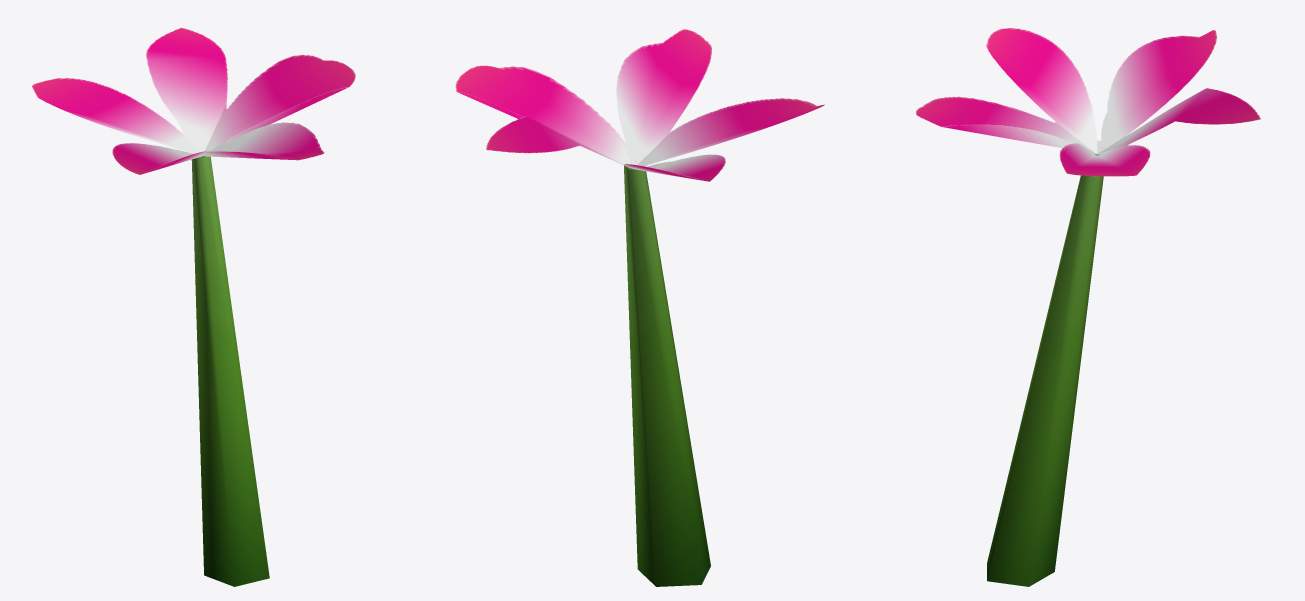
Rendered from SM_Flower5.fbx.
The picture shows the model from 3 angles, left to right: view 1: azimuth 30°, elevation 25°; view 2: azimuth 150°, elevation 25°; view 3: azimuth 270°, elevation 25°; orthographic projection. The views are drawn at different scales.
Parts seen in each view (by area): view 1: T_Grass_Flower.006, Cylinder.003; view 2: T_Grass_Flower.006, Cylinder.003; view 3: T_Grass_Flower.006, Cylinder.003.
Part boxes in pixels (box(x1,y1,x2,y2)): T_Grass_Flower.006: box(32, 27, 355, 174); Cylinder.003: box(191, 156, 269, 586); T_Grass_Flower.006: box(455, 29, 824, 181); Cylinder.003: box(624, 163, 710, 586); T_Grass_Flower.006: box(916, 28, 1260, 176); Cylinder.003: box(987, 154, 1103, 586).
Size of the model in its own units: 0.0824 by 0.1112 by 0.0824.
